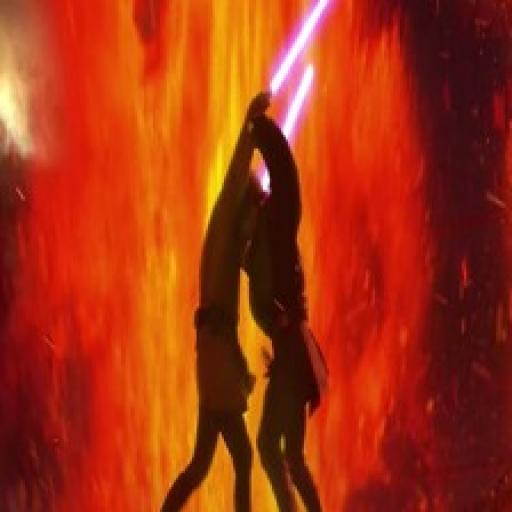human: (155, 87, 270, 512), (236, 112, 335, 509)
lightsaber: (243, 1, 331, 129), (241, 64, 316, 206)
